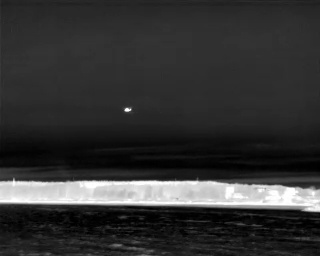HELICOPTER: (121, 103, 135, 118)
